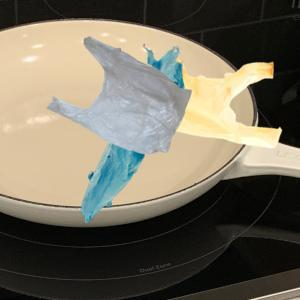plastic_bag: (43, 35, 190, 159), (169, 59, 284, 152)
